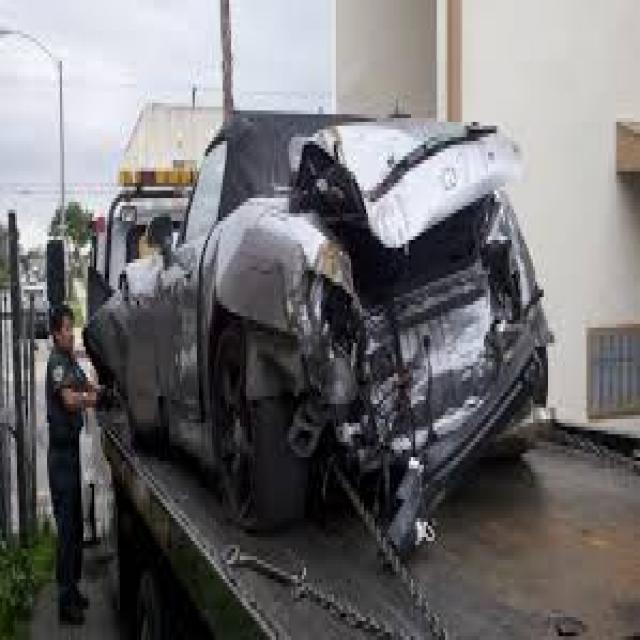severe: (101, 85, 613, 582)
